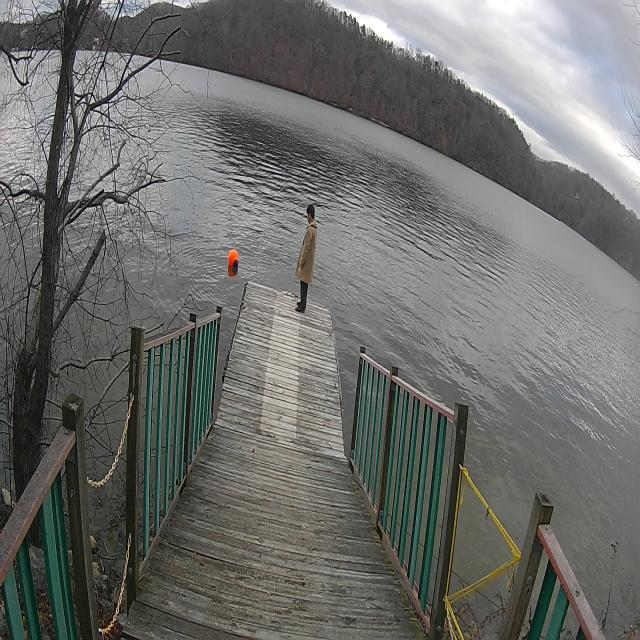Buoy: (226, 244, 242, 276)
